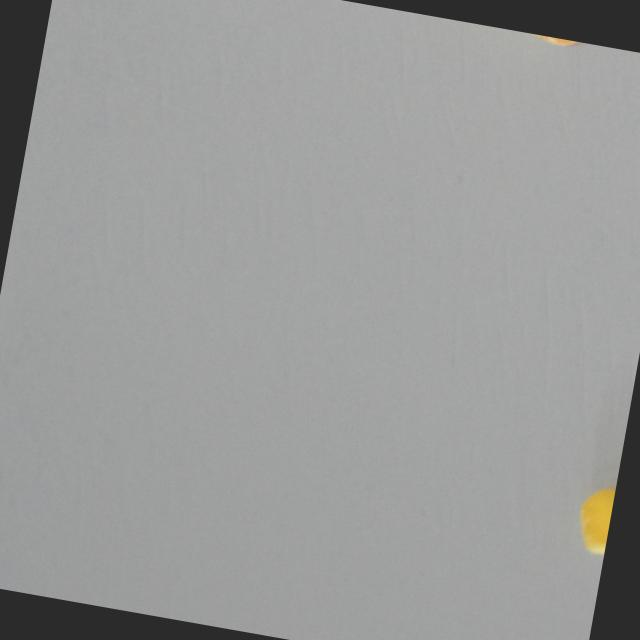estandar: (564, 471, 617, 567)
